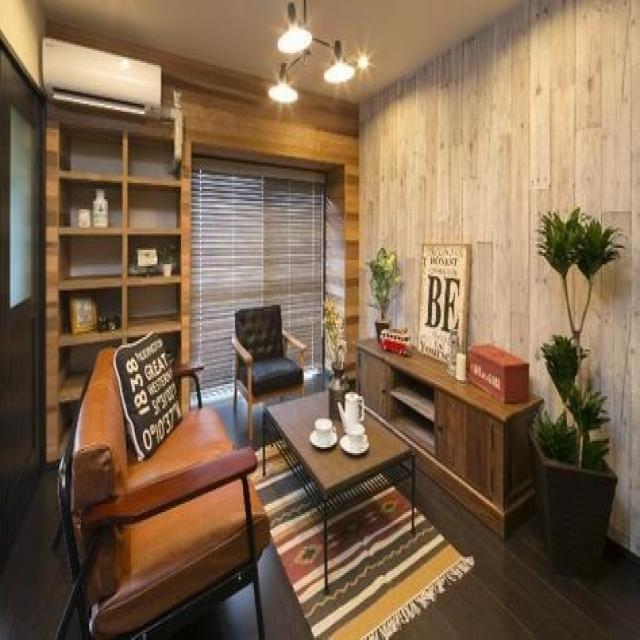vintage chair: (228, 302, 306, 397)
vintage desk: (264, 394, 416, 590)
vintage shelf: (356, 339, 542, 536)
vintage sofa: (62, 333, 275, 639)
